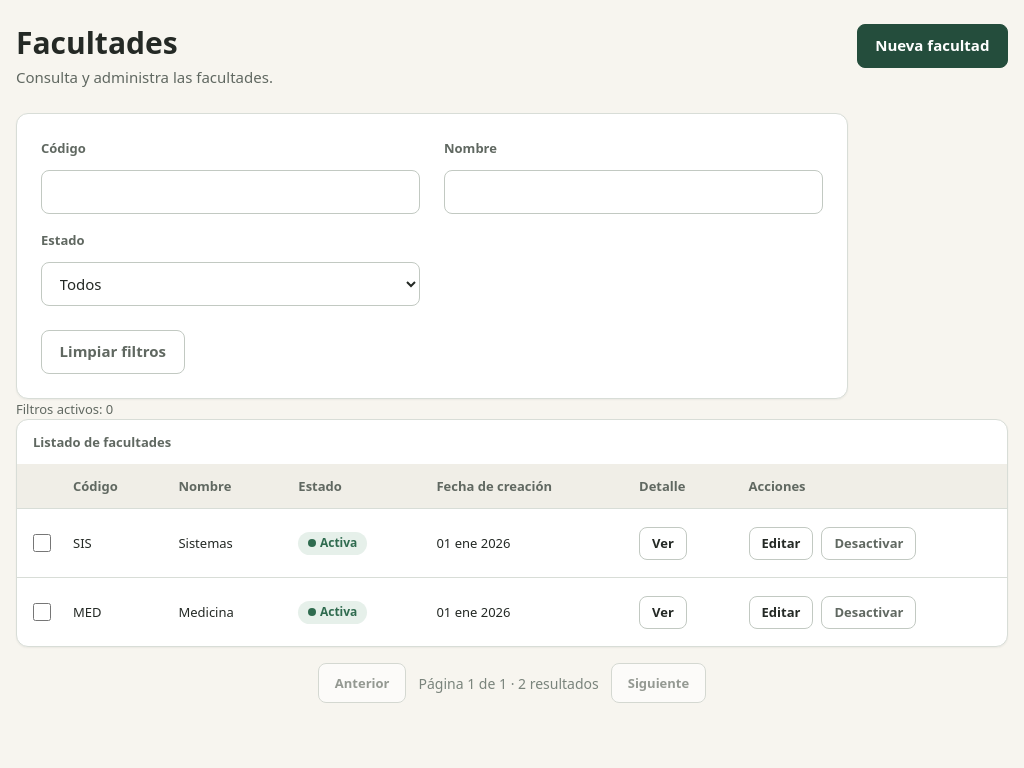
it: ListadoFacultadesComponent › muestra la barra contextual con las acciones válidas al seleccionar
Click the cell "SIS": (110, 544) [57,509,162,578]
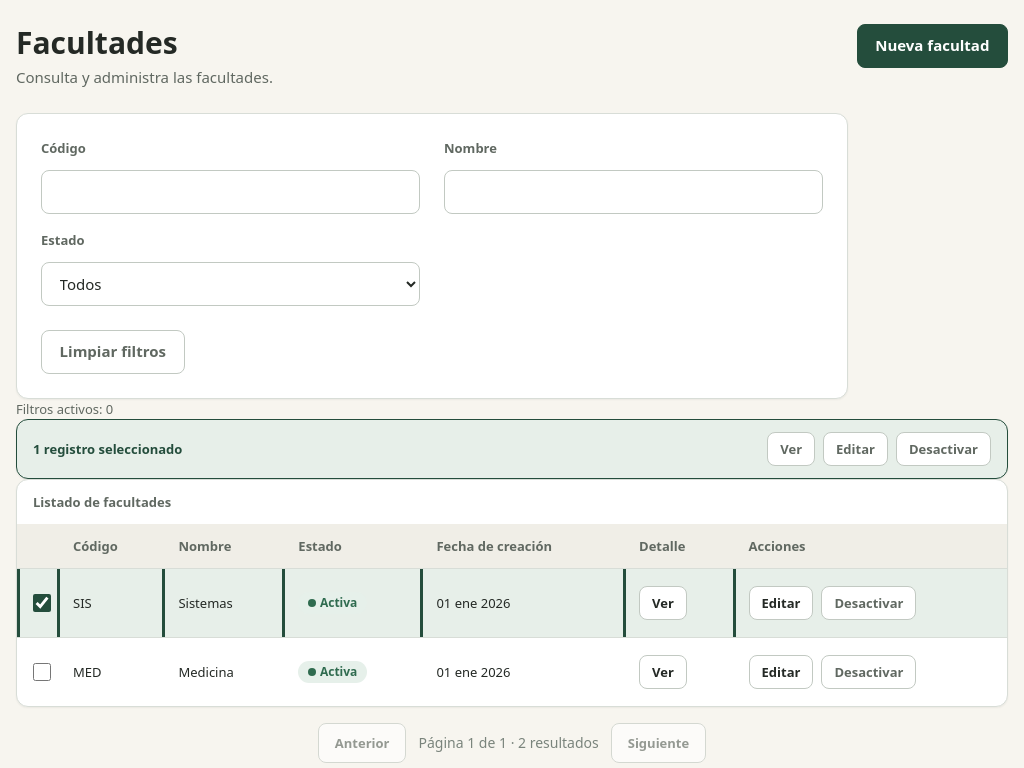
Result: the text "1 registro seleccionado" is shown at [33,439,182,459]
Result: the button "Ver" is shown at [767,432,815,466]
Result: the button "Editar" is shown at [823,432,888,466]
